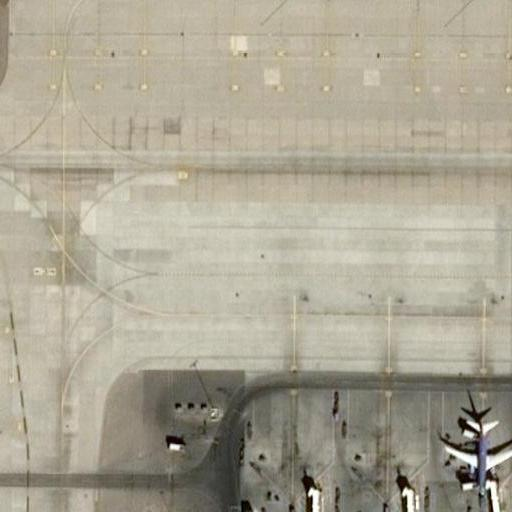Aircraft: (439, 403, 512, 498)
